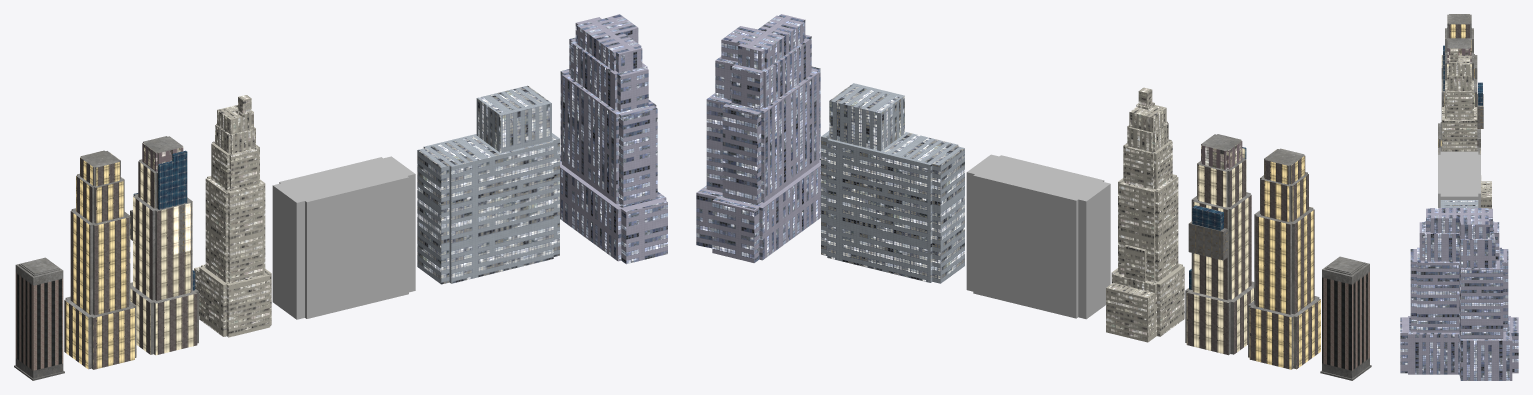
Rendered from Skyscraper6_1.0.fbx.
3 renders of one model, left to right at view 1: azimuth 30°, elevation 25°; view 2: azimuth 150°, elevation 25°; view 3: azimuth 270°, elevation 25°, orthographic. The views are drawn at different scales.
Parts seen in each view (by area): view 1: Cube.006, Cube.007, Cube.005, Cube.004, Cube.002, Cube.003, Cube.001; view 2: Cube.007, Cube.006, Cube.005, Cube.004, Cube.002, Cube.003, Cube.001; view 3: Cube.007, Cube.004, Cube.005, Cube.003, Cube.002, Cube.006.
Boxes of the visible parts, bbox=[...] form: Cube.006: bbox=[417, 85, 559, 284]; Cube.007: bbox=[560, 14, 667, 264]; Cube.005: bbox=[272, 156, 415, 319]; Cube.004: bbox=[194, 95, 271, 337]; Cube.002: bbox=[64, 150, 136, 369]; Cube.003: bbox=[130, 136, 198, 355]; Cube.001: bbox=[14, 257, 64, 380]; Cube.007: bbox=[696, 14, 820, 262]; Cube.006: bbox=[821, 83, 964, 283]; Cube.005: bbox=[966, 154, 1110, 319]; Cube.004: bbox=[1106, 87, 1184, 342]; Cube.002: bbox=[1248, 148, 1320, 369]; Cube.003: bbox=[1185, 134, 1254, 355]; Cube.001: bbox=[1320, 256, 1371, 380]; Cube.007: bbox=[1400, 208, 1518, 380]; Cube.004: bbox=[1442, 48, 1491, 208]; Cube.005: bbox=[1438, 151, 1480, 207]; Cube.003: bbox=[1438, 38, 1483, 154]; Cube.002: bbox=[1438, 14, 1480, 147]; Cube.006: bbox=[1440, 200, 1478, 207].
Size of the model in its own units: 78528 by 27167 by 16507.
